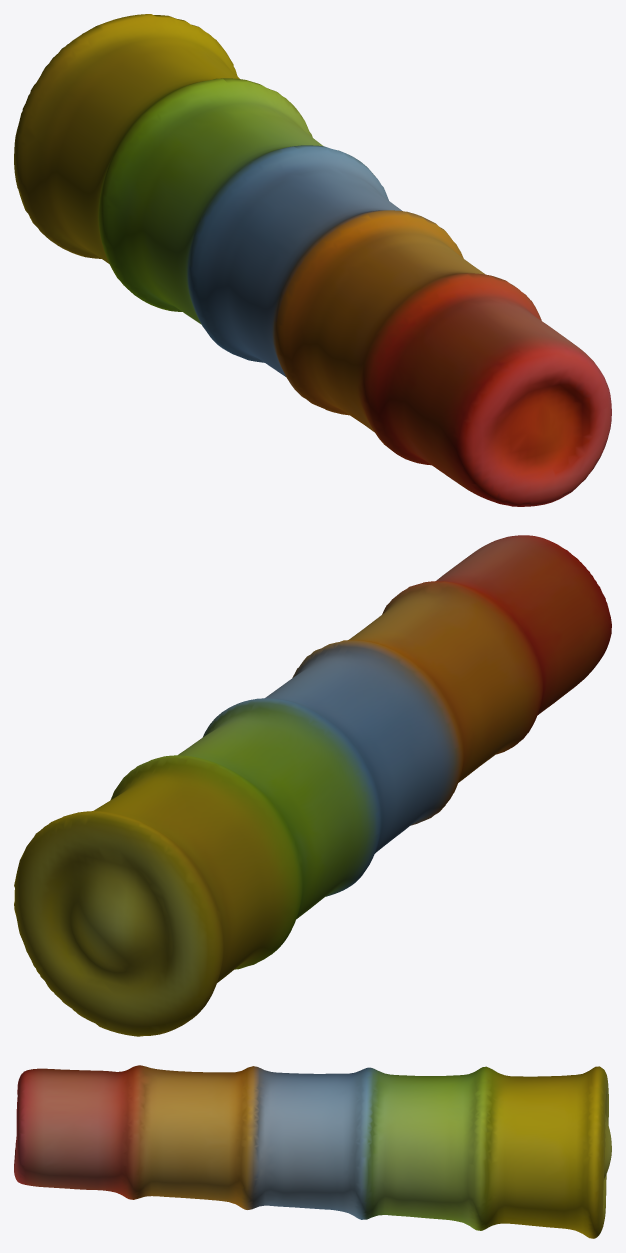
File: stucking_cups.glb
3 renders of one model, top to bottom at view 1: azimuth 30°, elevation 25°; view 2: azimuth 150°, elevation 25°; view 3: azimuth 270°, elevation 25°, orthographic. The views are drawn at different scales.
Bounding box in the file's own units: 0.2861 × 0.2869 × 0.9997.
